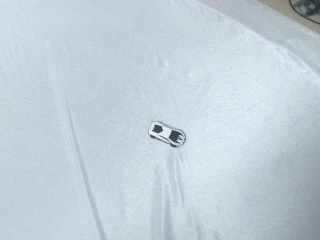toy_car: (149, 122, 186, 148)
